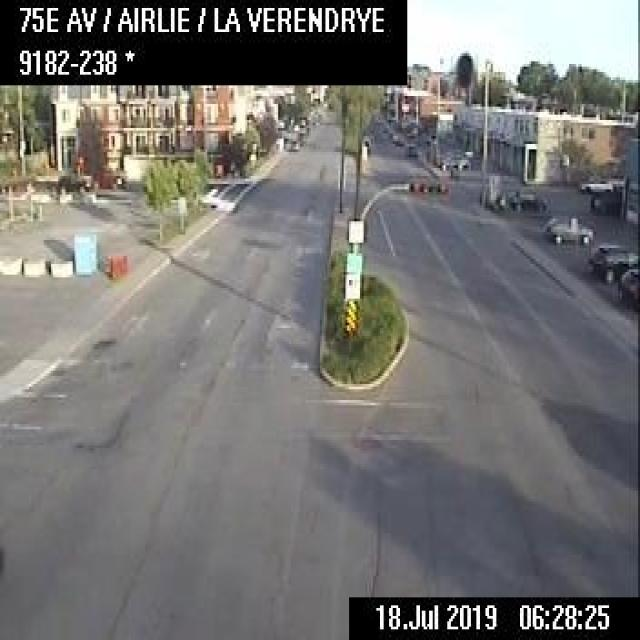construction: (108, 254, 115, 276), (120, 251, 126, 274), (114, 253, 120, 275)
vehicle: (588, 242, 638, 282), (544, 213, 590, 244), (615, 266, 638, 310), (508, 188, 542, 212), (55, 171, 91, 192), (588, 190, 620, 213), (436, 151, 469, 170), (95, 165, 123, 187), (580, 174, 612, 190), (281, 131, 299, 152), (403, 142, 419, 158)
